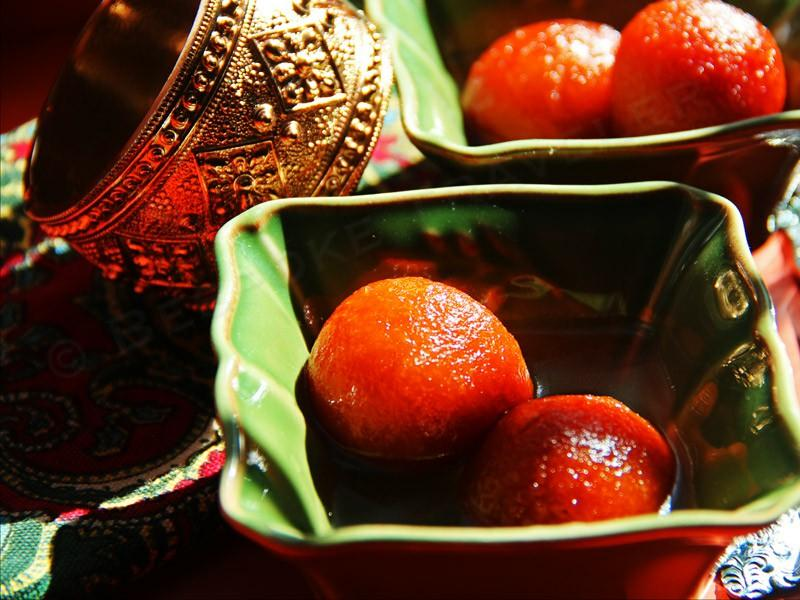GulabJamun: (293, 276, 534, 486), (466, 393, 675, 526), (609, 0, 786, 140), (458, 20, 622, 139)
